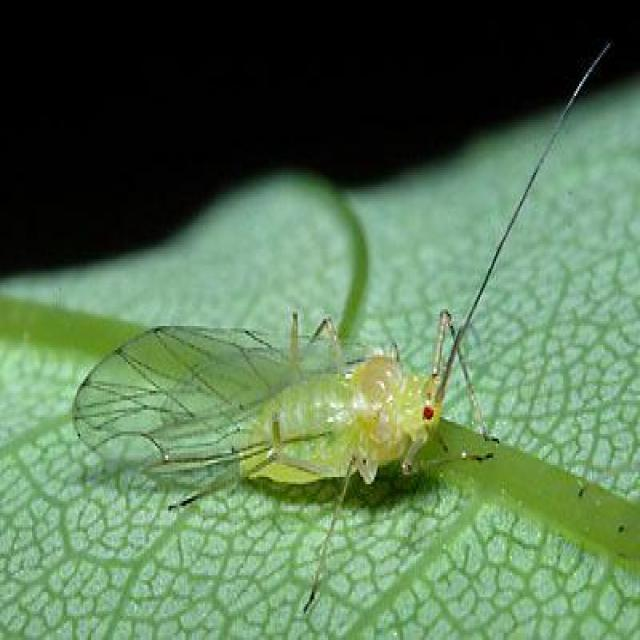Aphids: (78, 166, 564, 617)
